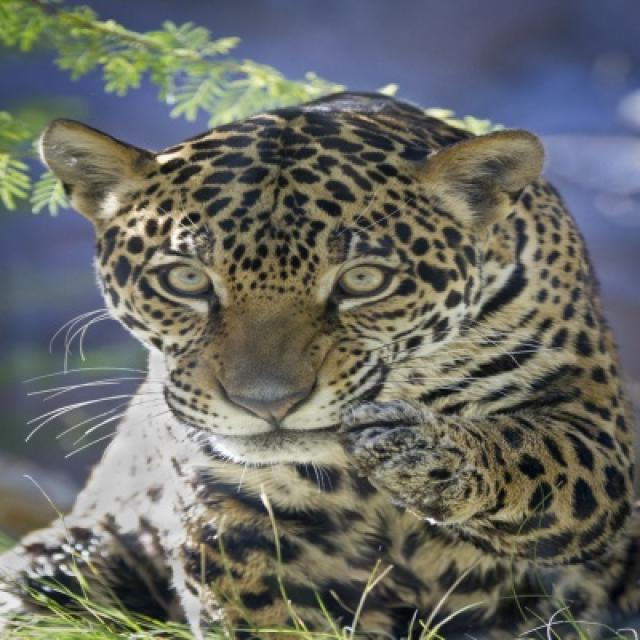Jaguar: (0, 91, 638, 638)
